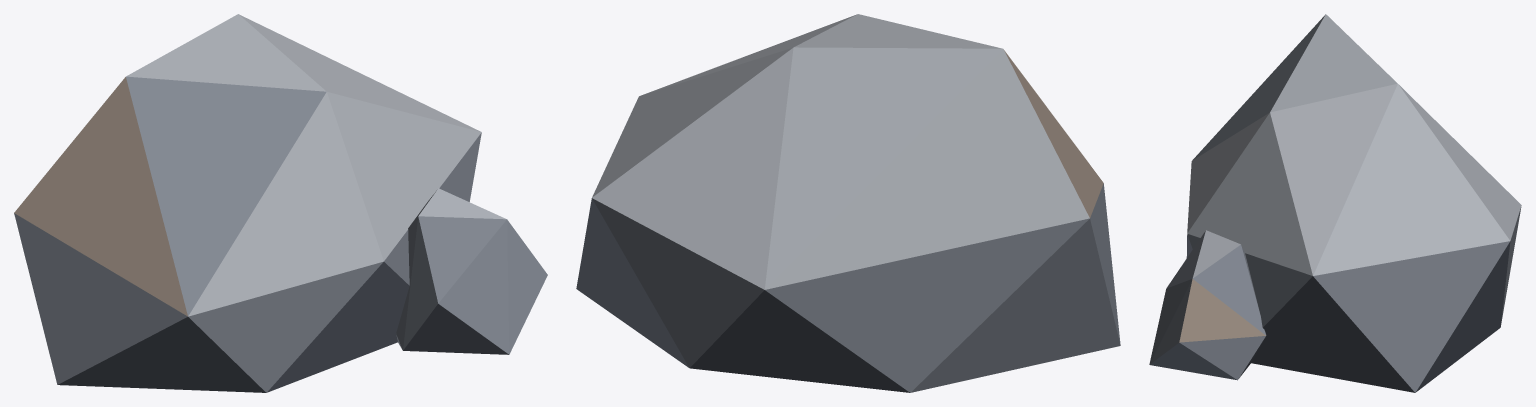
The model's file is rock_m1.glb.
3 renders of one model, left to right at view 1: azimuth 30°, elevation 25°; view 2: azimuth 150°, elevation 25°; view 3: azimuth 270°, elevation 25°, orthographic. The views are drawn at different scales.
Visible parts, largest first — view 1: Body; view 2: Body; view 3: Body.
Boxes of the visible parts, x1,y1,x2,y2 form: Body: (14, 14, 547, 392); Body: (576, 14, 1120, 392); Body: (1149, 14, 1521, 392).
Size of the model in its own units: 1.77 by 1.03 by 1.49.
